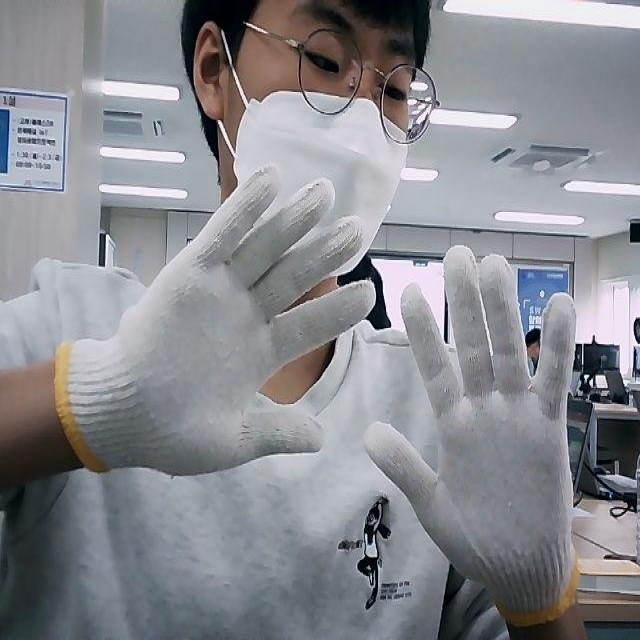Guantes: (56, 169, 375, 476), (382, 243, 578, 621)
